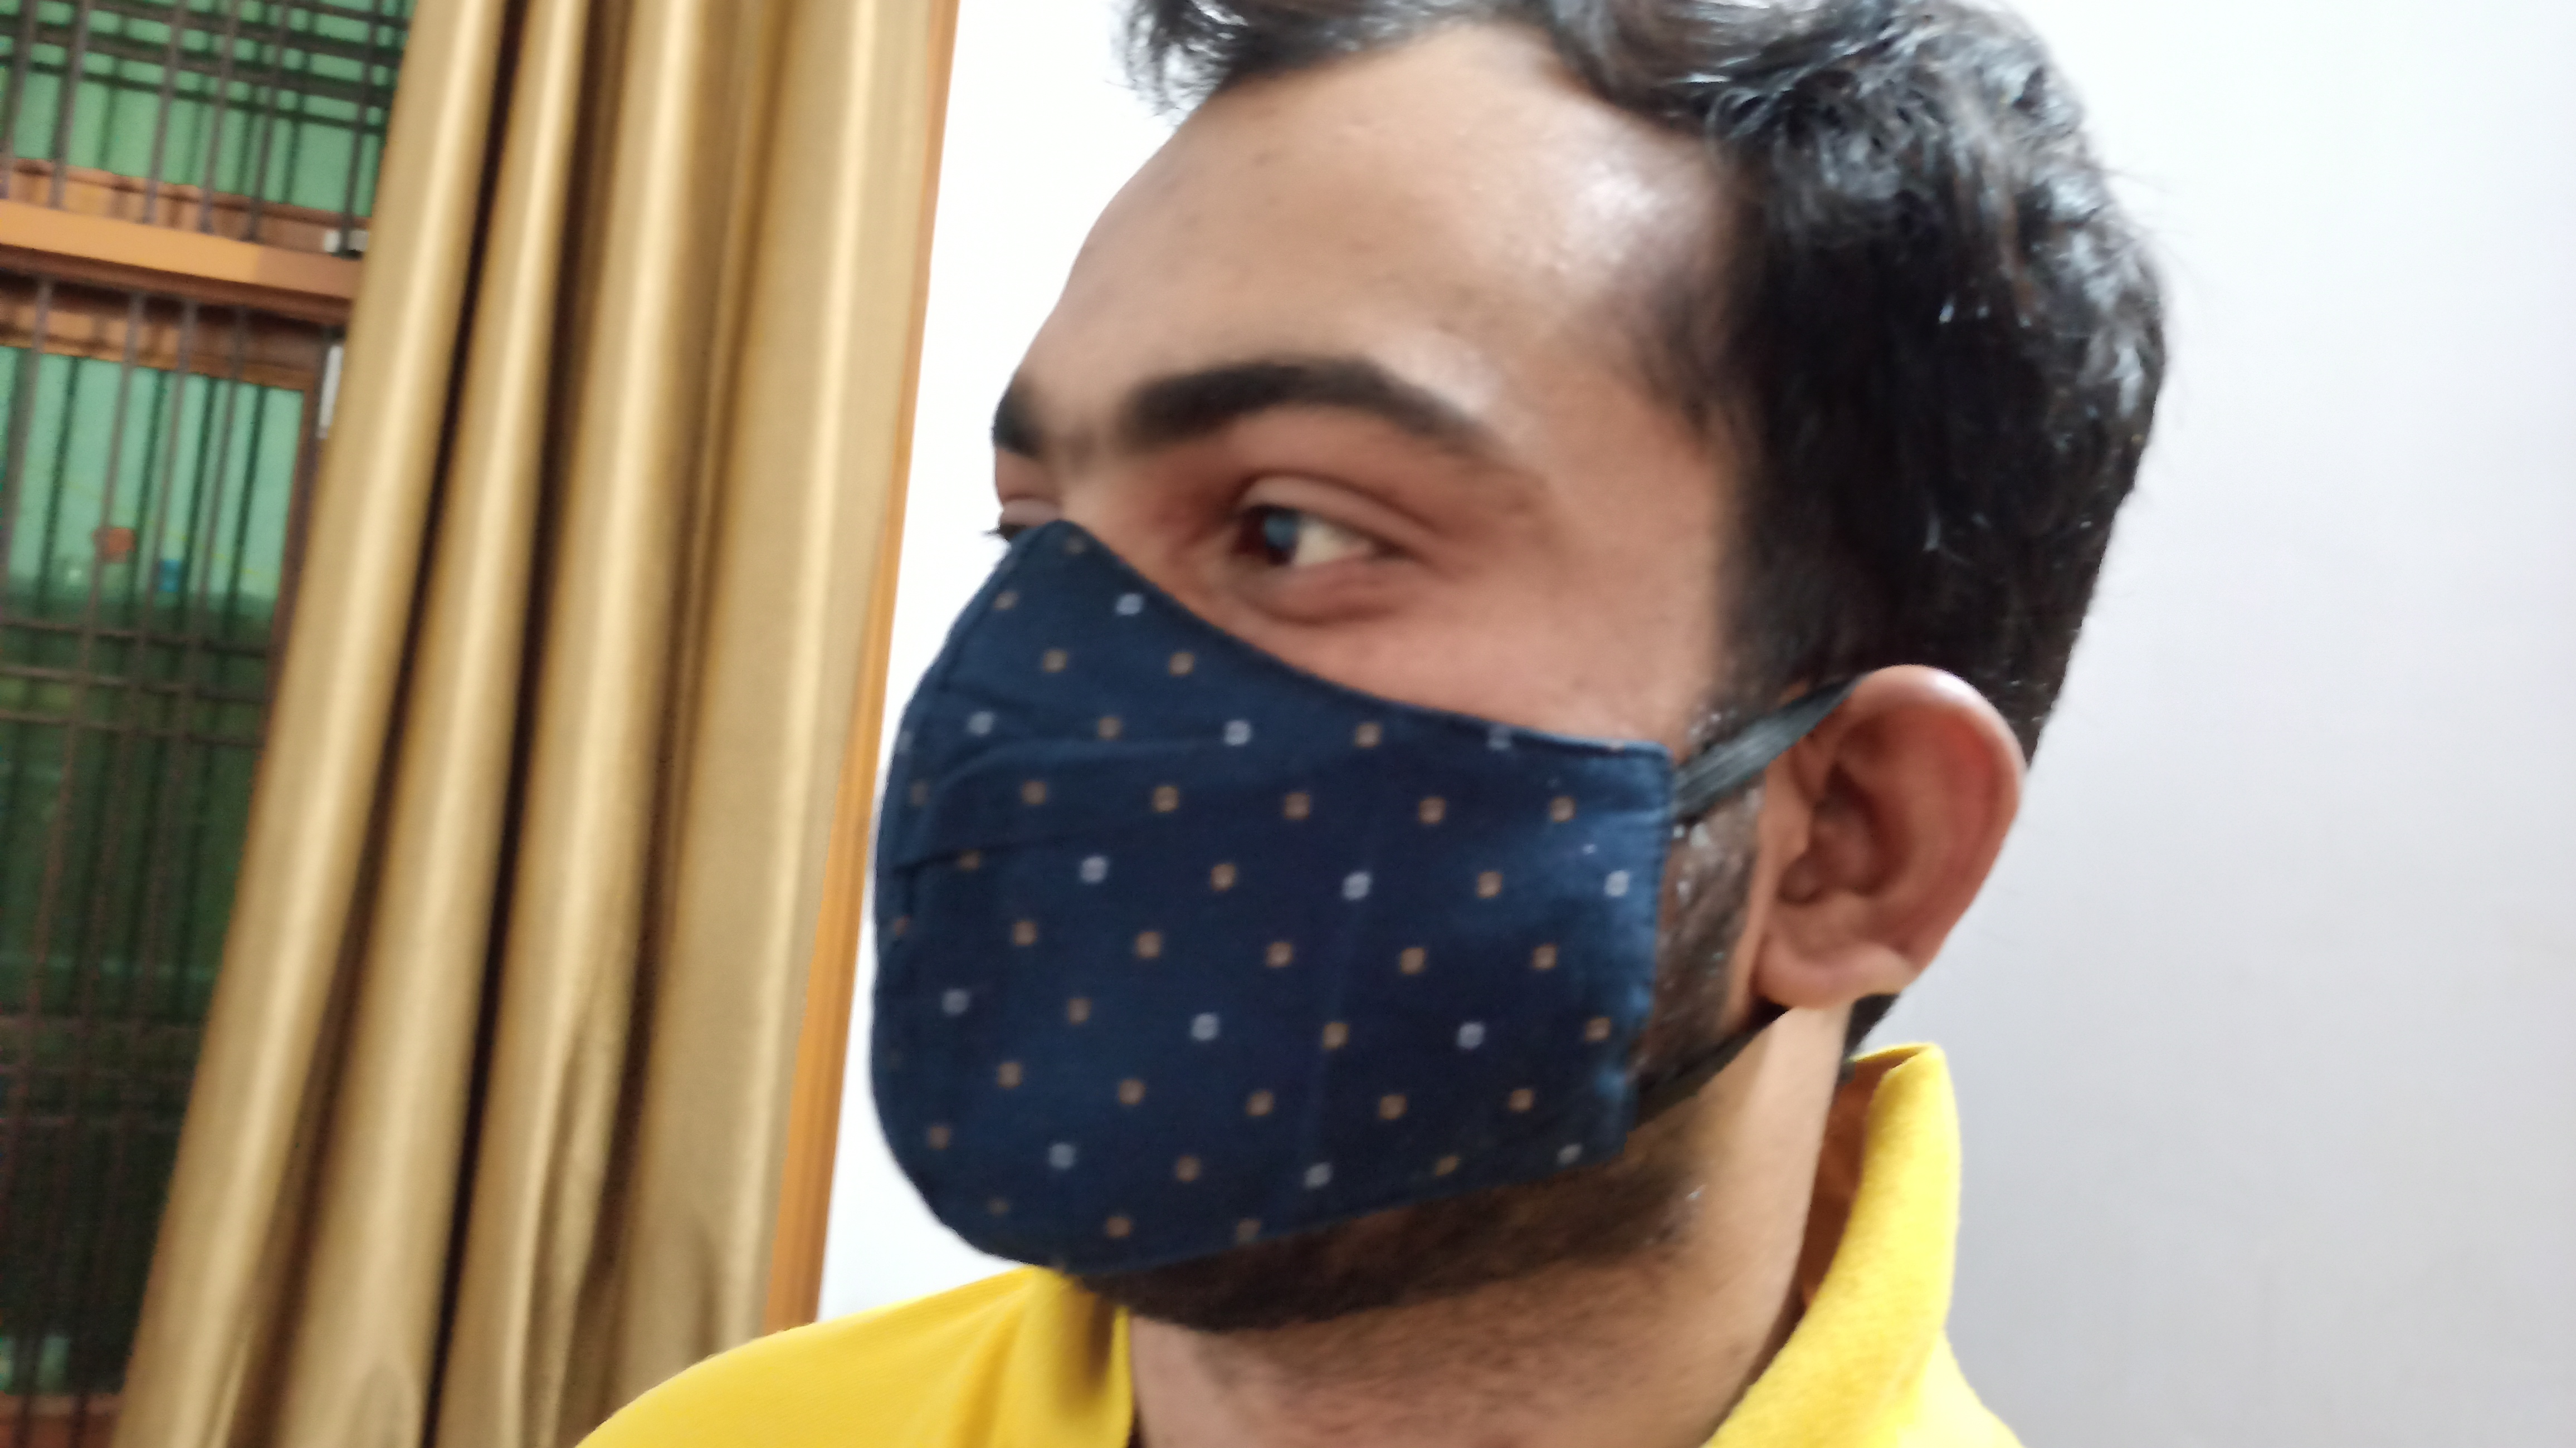Mask: (830, 509, 2125, 1299)
